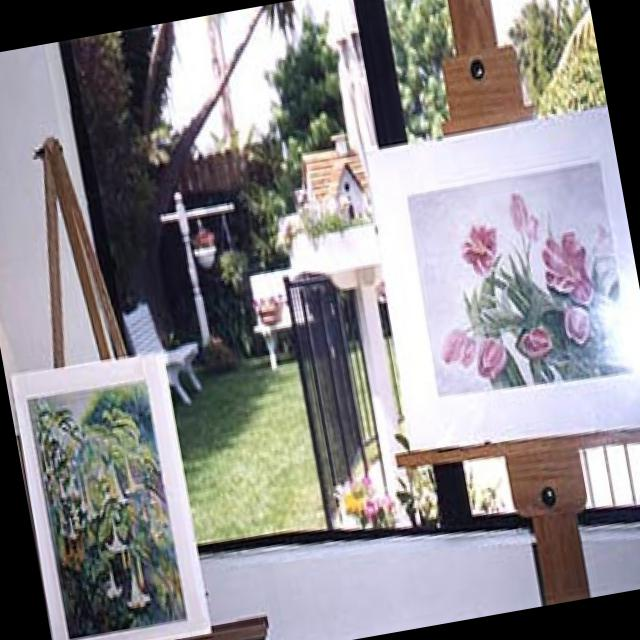2001: (61, 0, 640, 553)
easel: (396, 0, 640, 601)
easel occluded: (166, 613, 266, 640)
painting crop: (366, 102, 640, 448), (11, 351, 212, 640)
wall clock: (0, 40, 640, 640)
